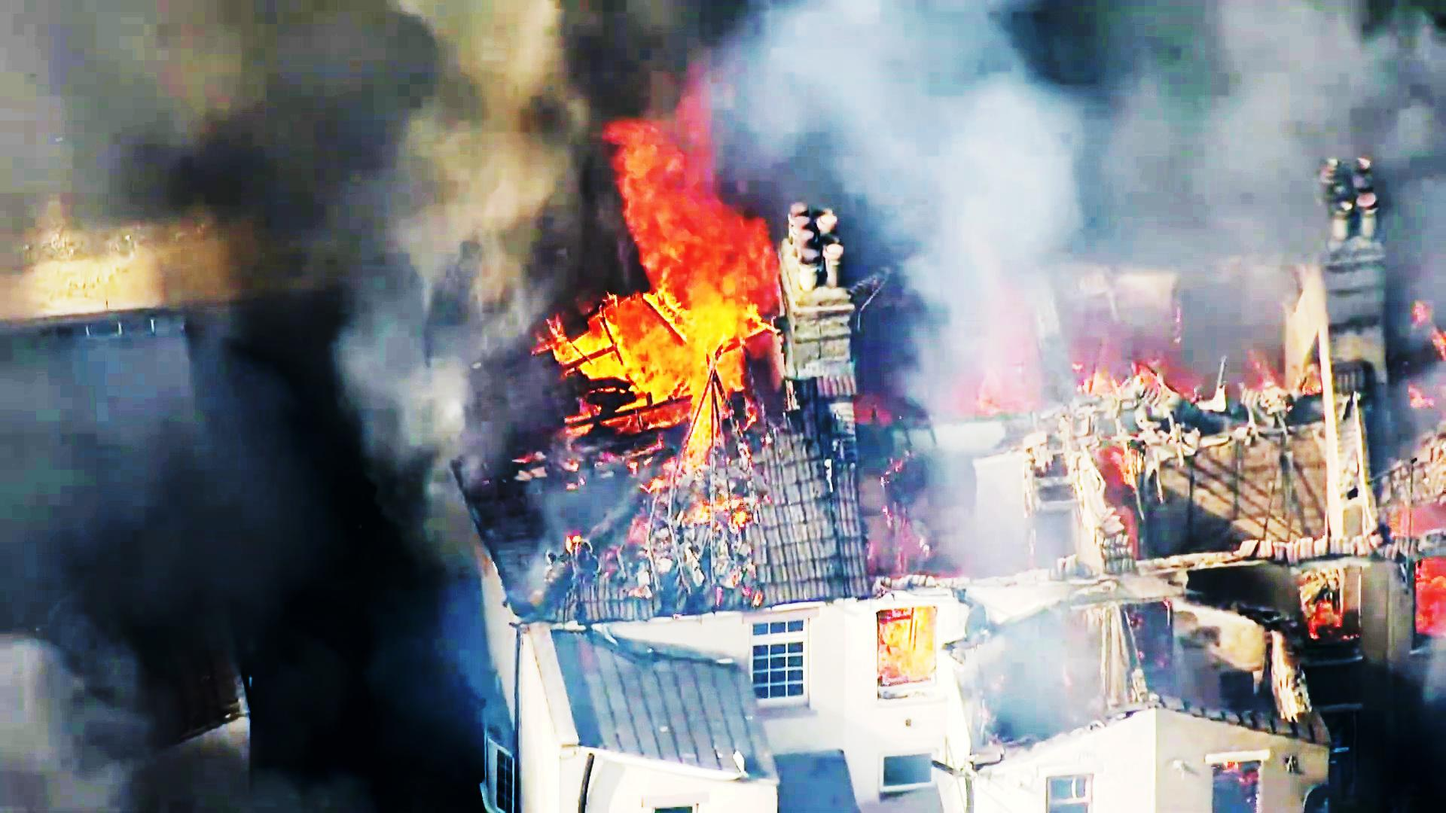fire: (560, 121, 795, 435)
smoke: (964, 0, 1409, 296)
